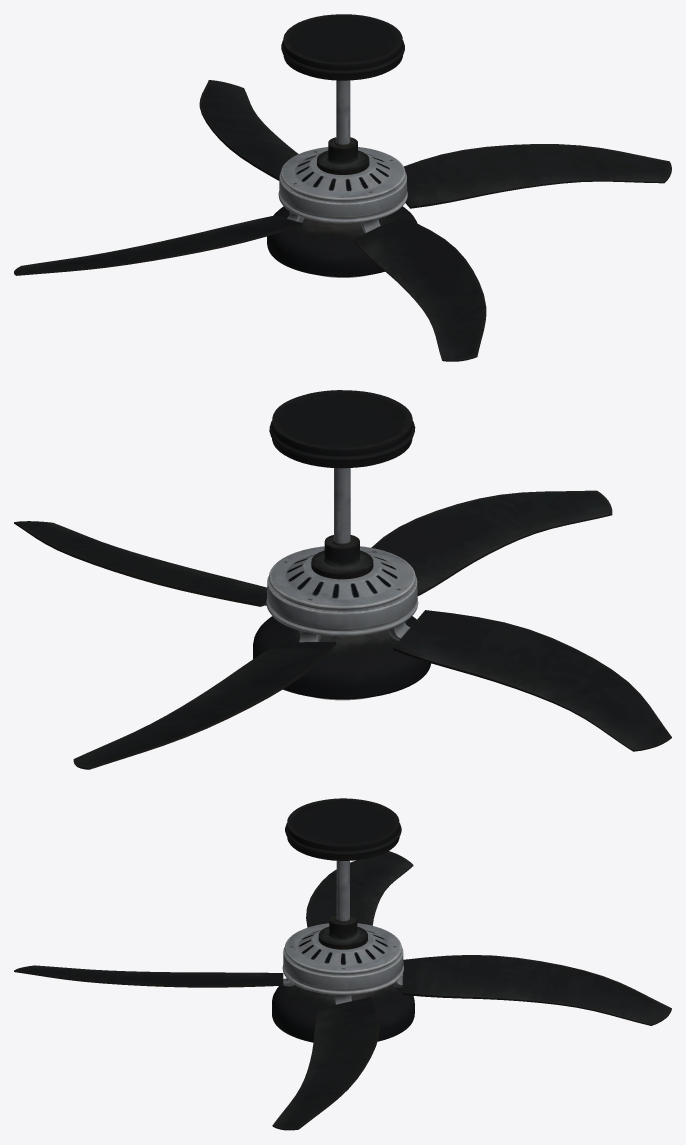
Rendered from ceiling_fan.glb.
3 views of the same model, one above another, from view 1: azimuth 30°, elevation 25°; view 2: azimuth 150°, elevation 25°; view 3: azimuth 270°, elevation 25° (orthographic). The views are drawn at different scales.
Parts seen in each view (by area): view 1: ceiling_fan; view 2: ceiling_fan; view 3: ceiling_fan.
Boxes of the visible parts, x1,y1,x2,y2 form: ceiling_fan: (14,14,671,361); ceiling_fan: (14,390,671,769); ceiling_fan: (14,798,671,1130).
Size of the model in its own units: 1.46 by 0.5163 by 1.46.
1 material, 1 textured.
